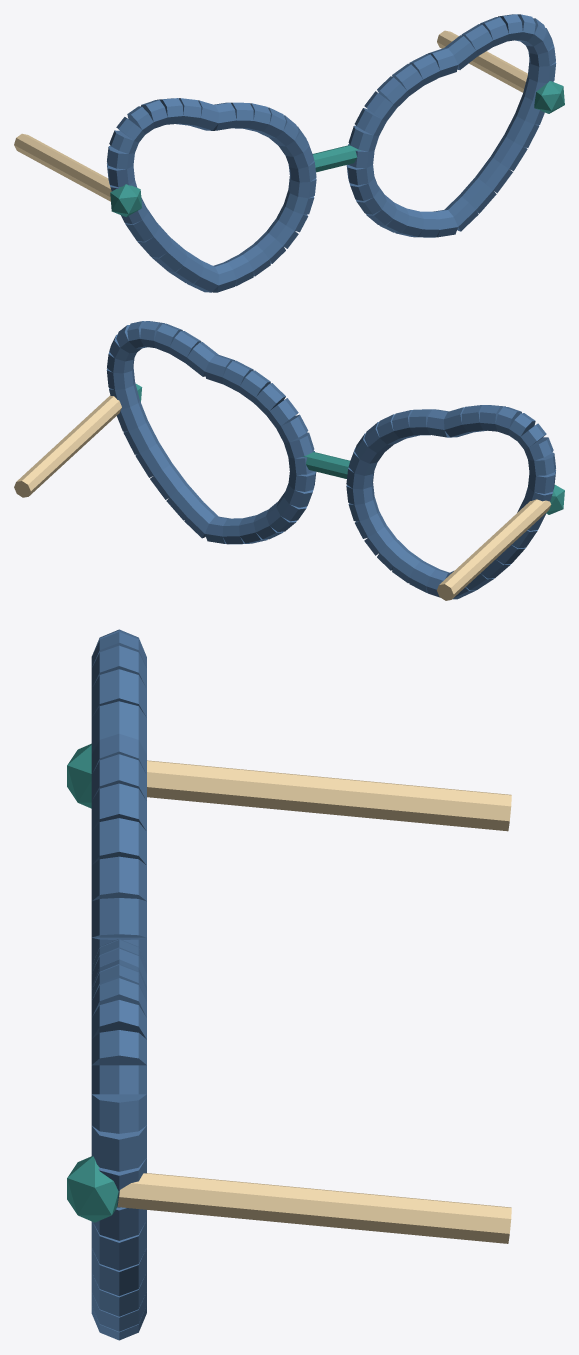
File: eyewear_cat_eye.glb
3 renders of one model, top to bottom at view 1: azimuth 30°, elevation 25°; view 2: azimuth 150°, elevation 25°; view 3: azimuth 270°, elevation 25°, orthographic. The views are drawn at different scales.
Parts seen in each view (by area): view 1: wearable; view 2: wearable; view 3: wearable.
Part boxes in pixels (box(x1,y1,x2,y2)): wearable: box(14, 14, 564, 292); wearable: box(14, 321, 564, 600); wearable: box(67, 629, 511, 1340).
Bounding box in the file's own units: 0.6411 × 0.2787 × 0.2733.
